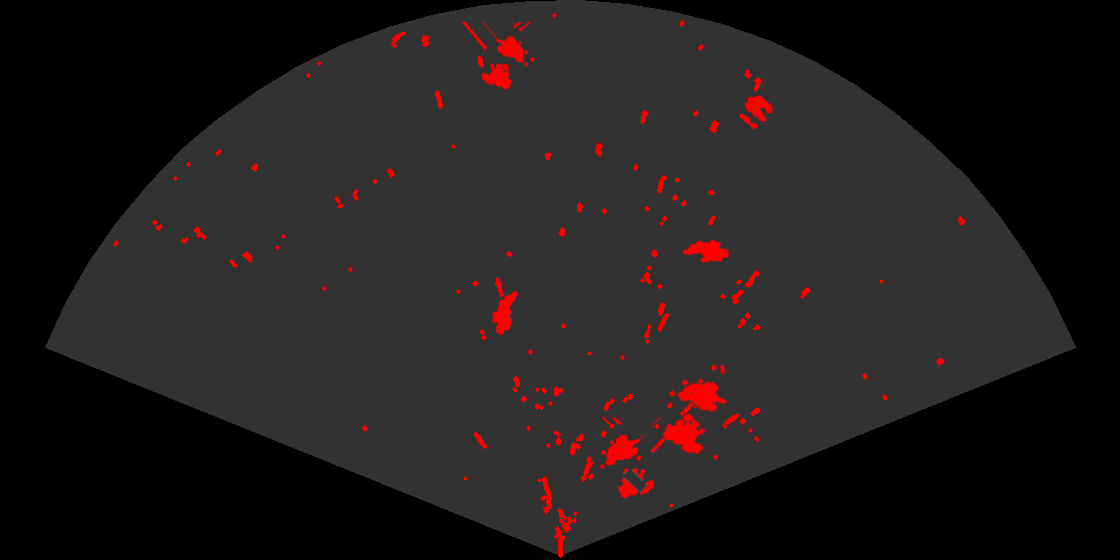AUV: (490, 290, 519, 337), (681, 238, 731, 264)
ball: (738, 94, 774, 131)
cage: (599, 417, 678, 500), (661, 365, 728, 457), (462, 22, 533, 91)
